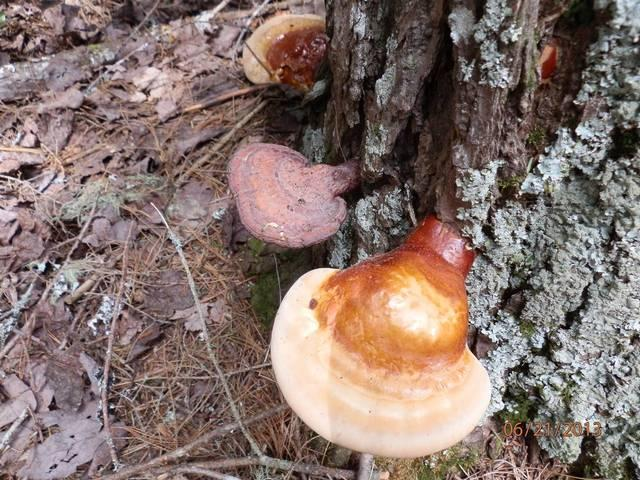Non-edible Mushroom: (268, 213, 492, 460), (224, 130, 367, 248), (230, 2, 332, 88)
